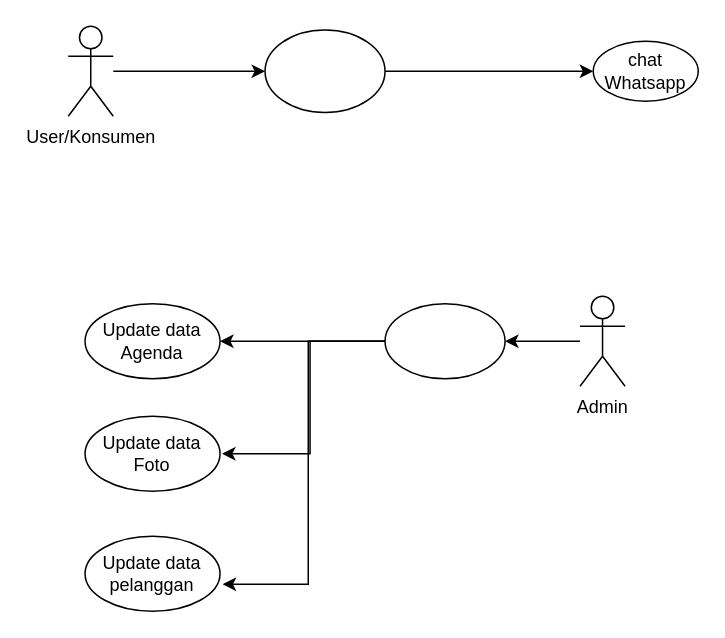
Some shapes in this 725 by 638 pixel diagram are drawn without their labels. Each missing label, with the centre of its shape:
"Login Admin" belongs at pixel 444 340.
"Menu utama" belongs at pixel 324 70.
